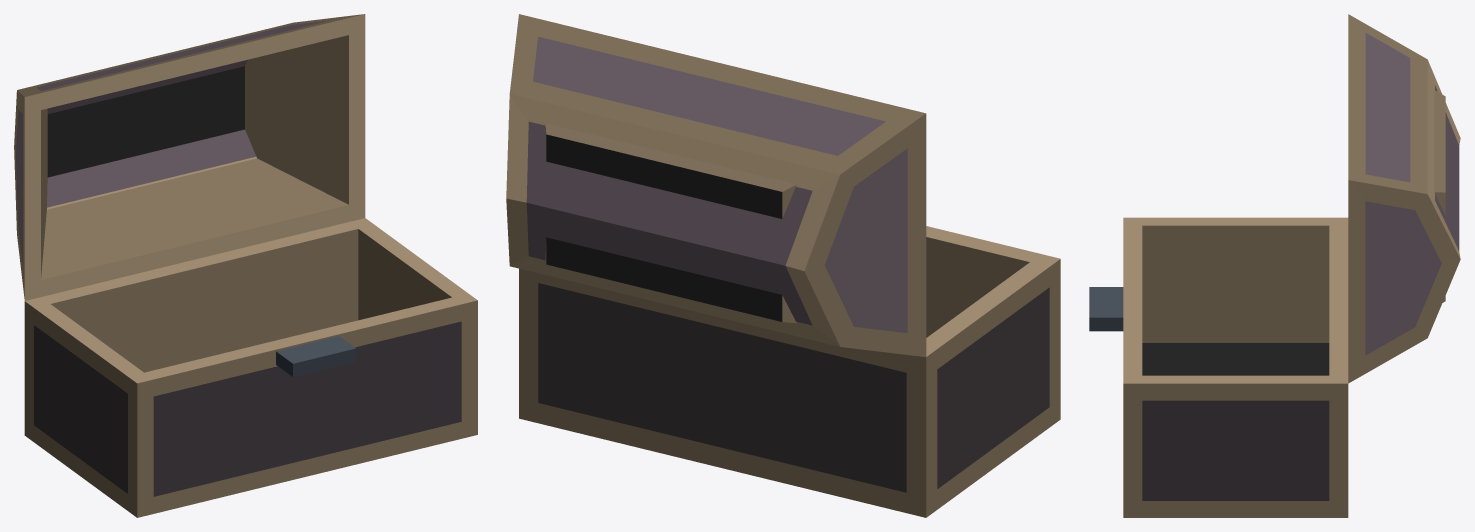
Rendered from TB_D_Prop_ChestC_Open_C.FBX.
The picture shows the model from 3 angles, left to right: view 1: azimuth 30°, elevation 25°; view 2: azimuth 150°, elevation 25°; view 3: azimuth 270°, elevation 25°; orthographic projection. The views are drawn at different scales.
Visible parts, largest first — view 1: TB_D_Prop_ChestC_Open_C; view 2: TB_D_Prop_ChestC_Open_C; view 3: TB_D_Prop_ChestC_Open_C.
Boxes of the visible parts, left/top/right/bottom form: TB_D_Prop_ChestC_Open_C: left=14, top=14, right=477, bottom=517; TB_D_Prop_ChestC_Open_C: left=506, top=14, right=1060, bottom=517; TB_D_Prop_ChestC_Open_C: left=1089, top=14, right=1460, bottom=517.
Size of the model in its own units: 1.05 by 0.9932 by 0.9887.
